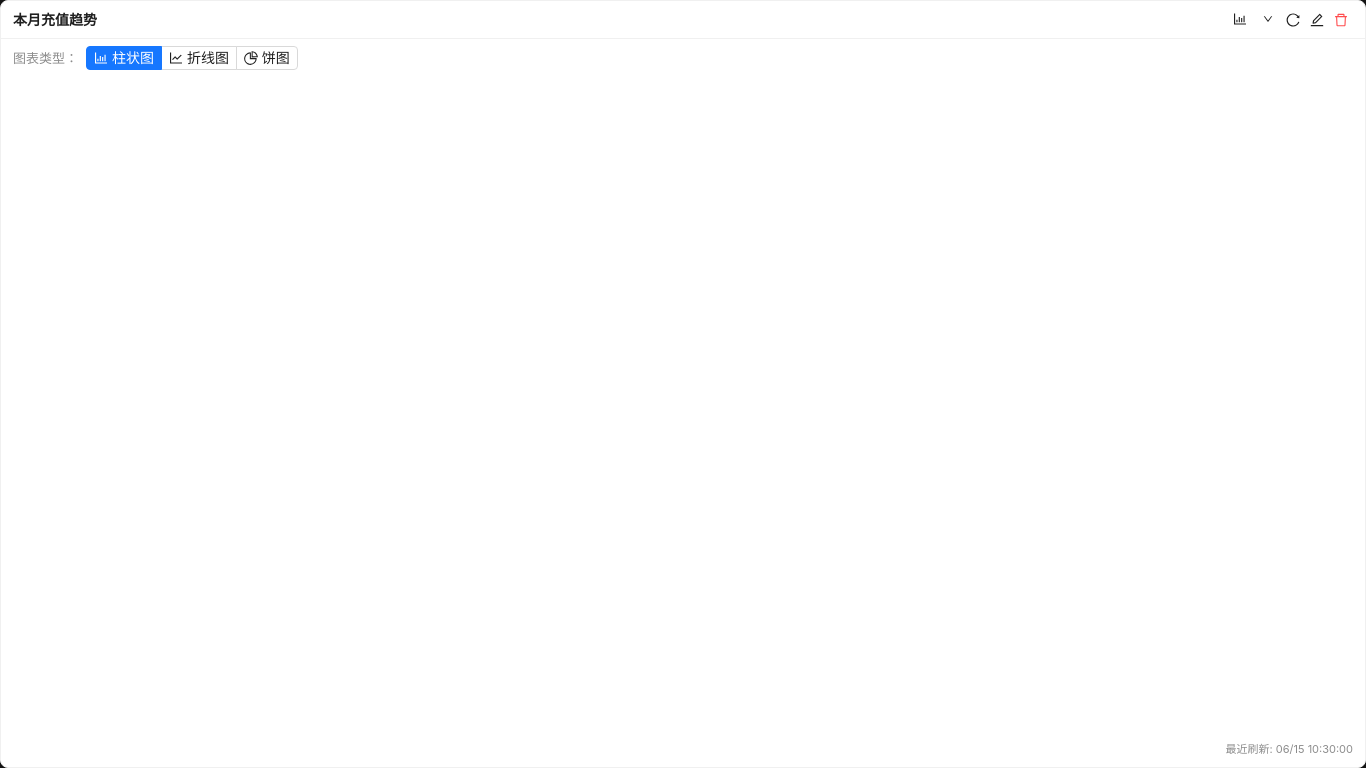
Test: DashboardPanel - 标题编辑 › 按Escape应取消编辑
Click the 3rd button named "edit" at (1317, 20), box [1305,8,1329,32]
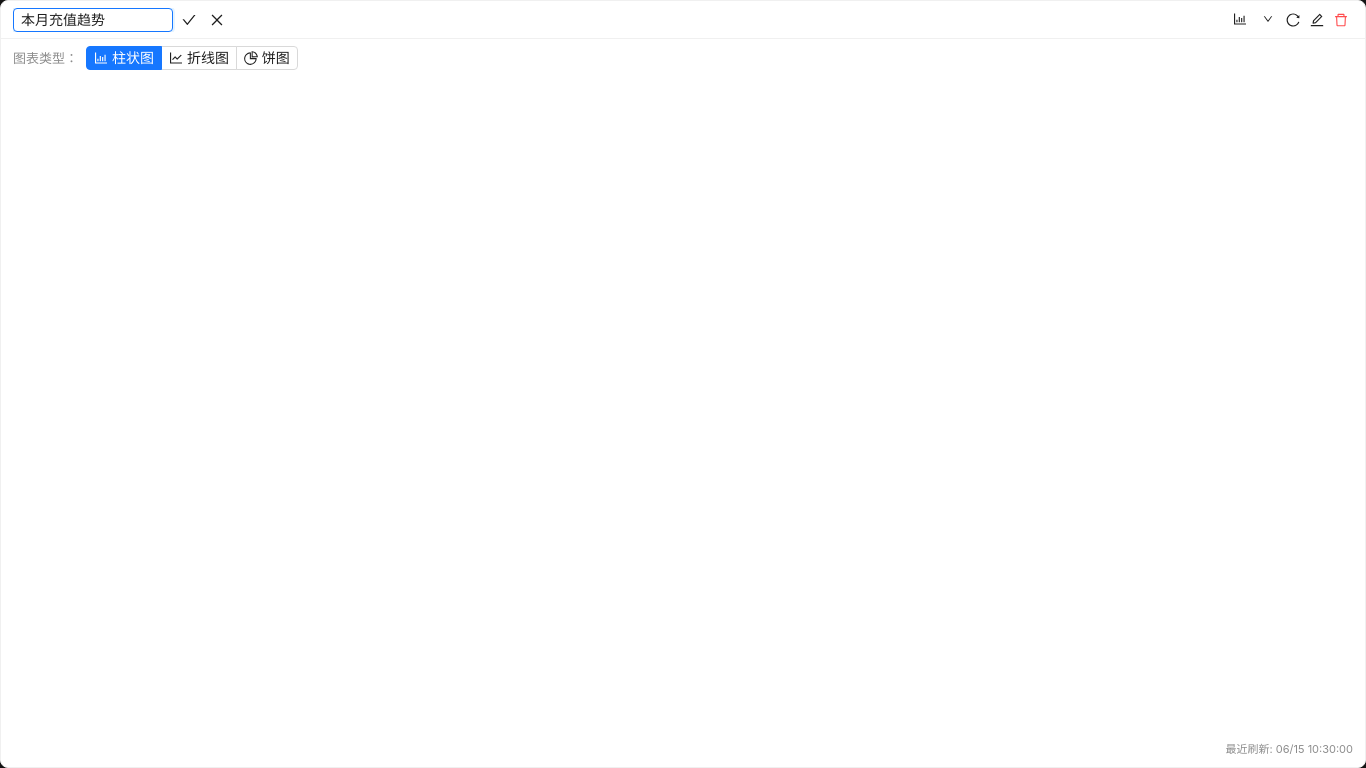
Replace the text in the field with "新标题" at (93, 20), box [13,8,173,32]
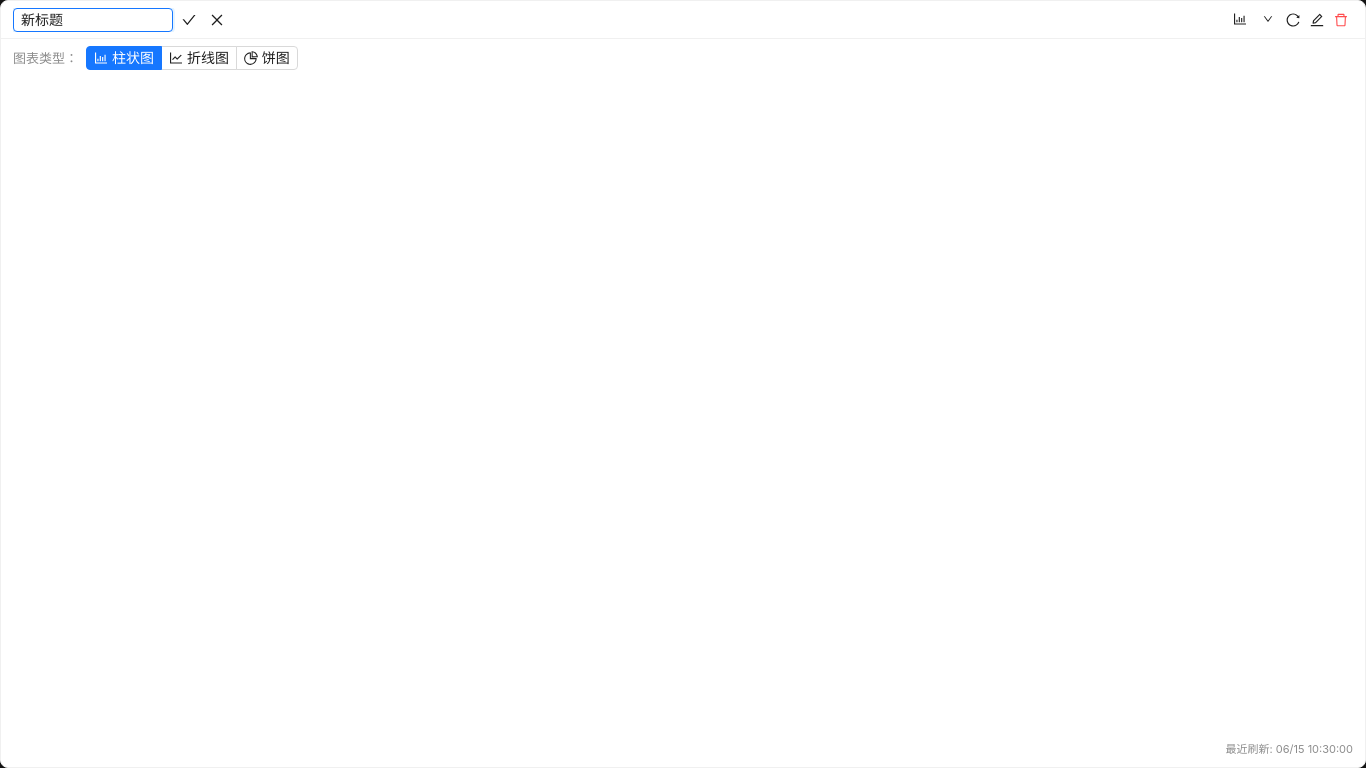
Press Escape in the field, box [13,8,173,32]
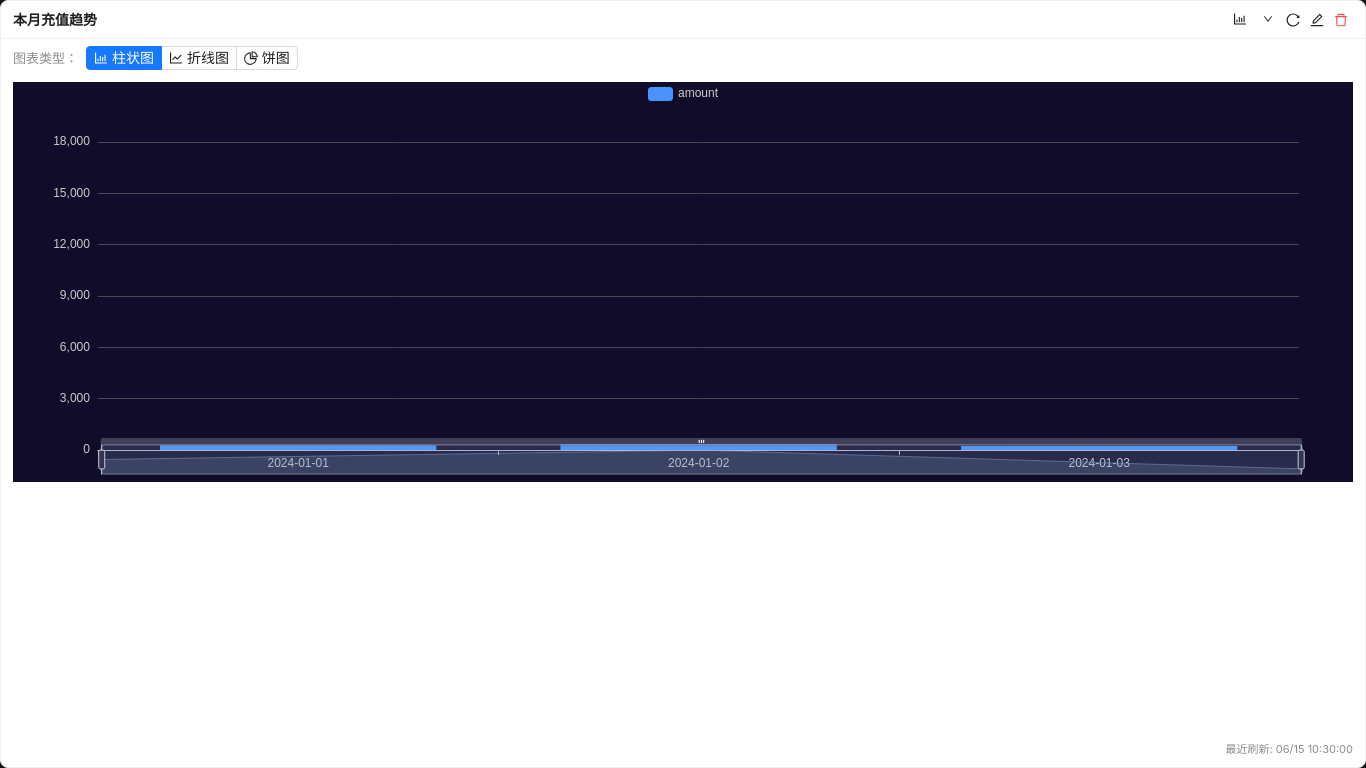
Result: the text "本月充值趋势" is shown at [13,10,97,28]
Result: the field is gone
